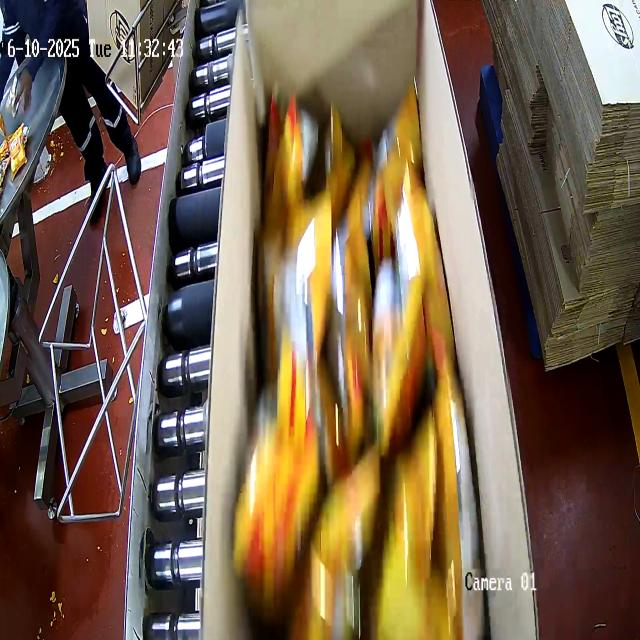FRENCH_CHEESE: (241, 76, 478, 640)
